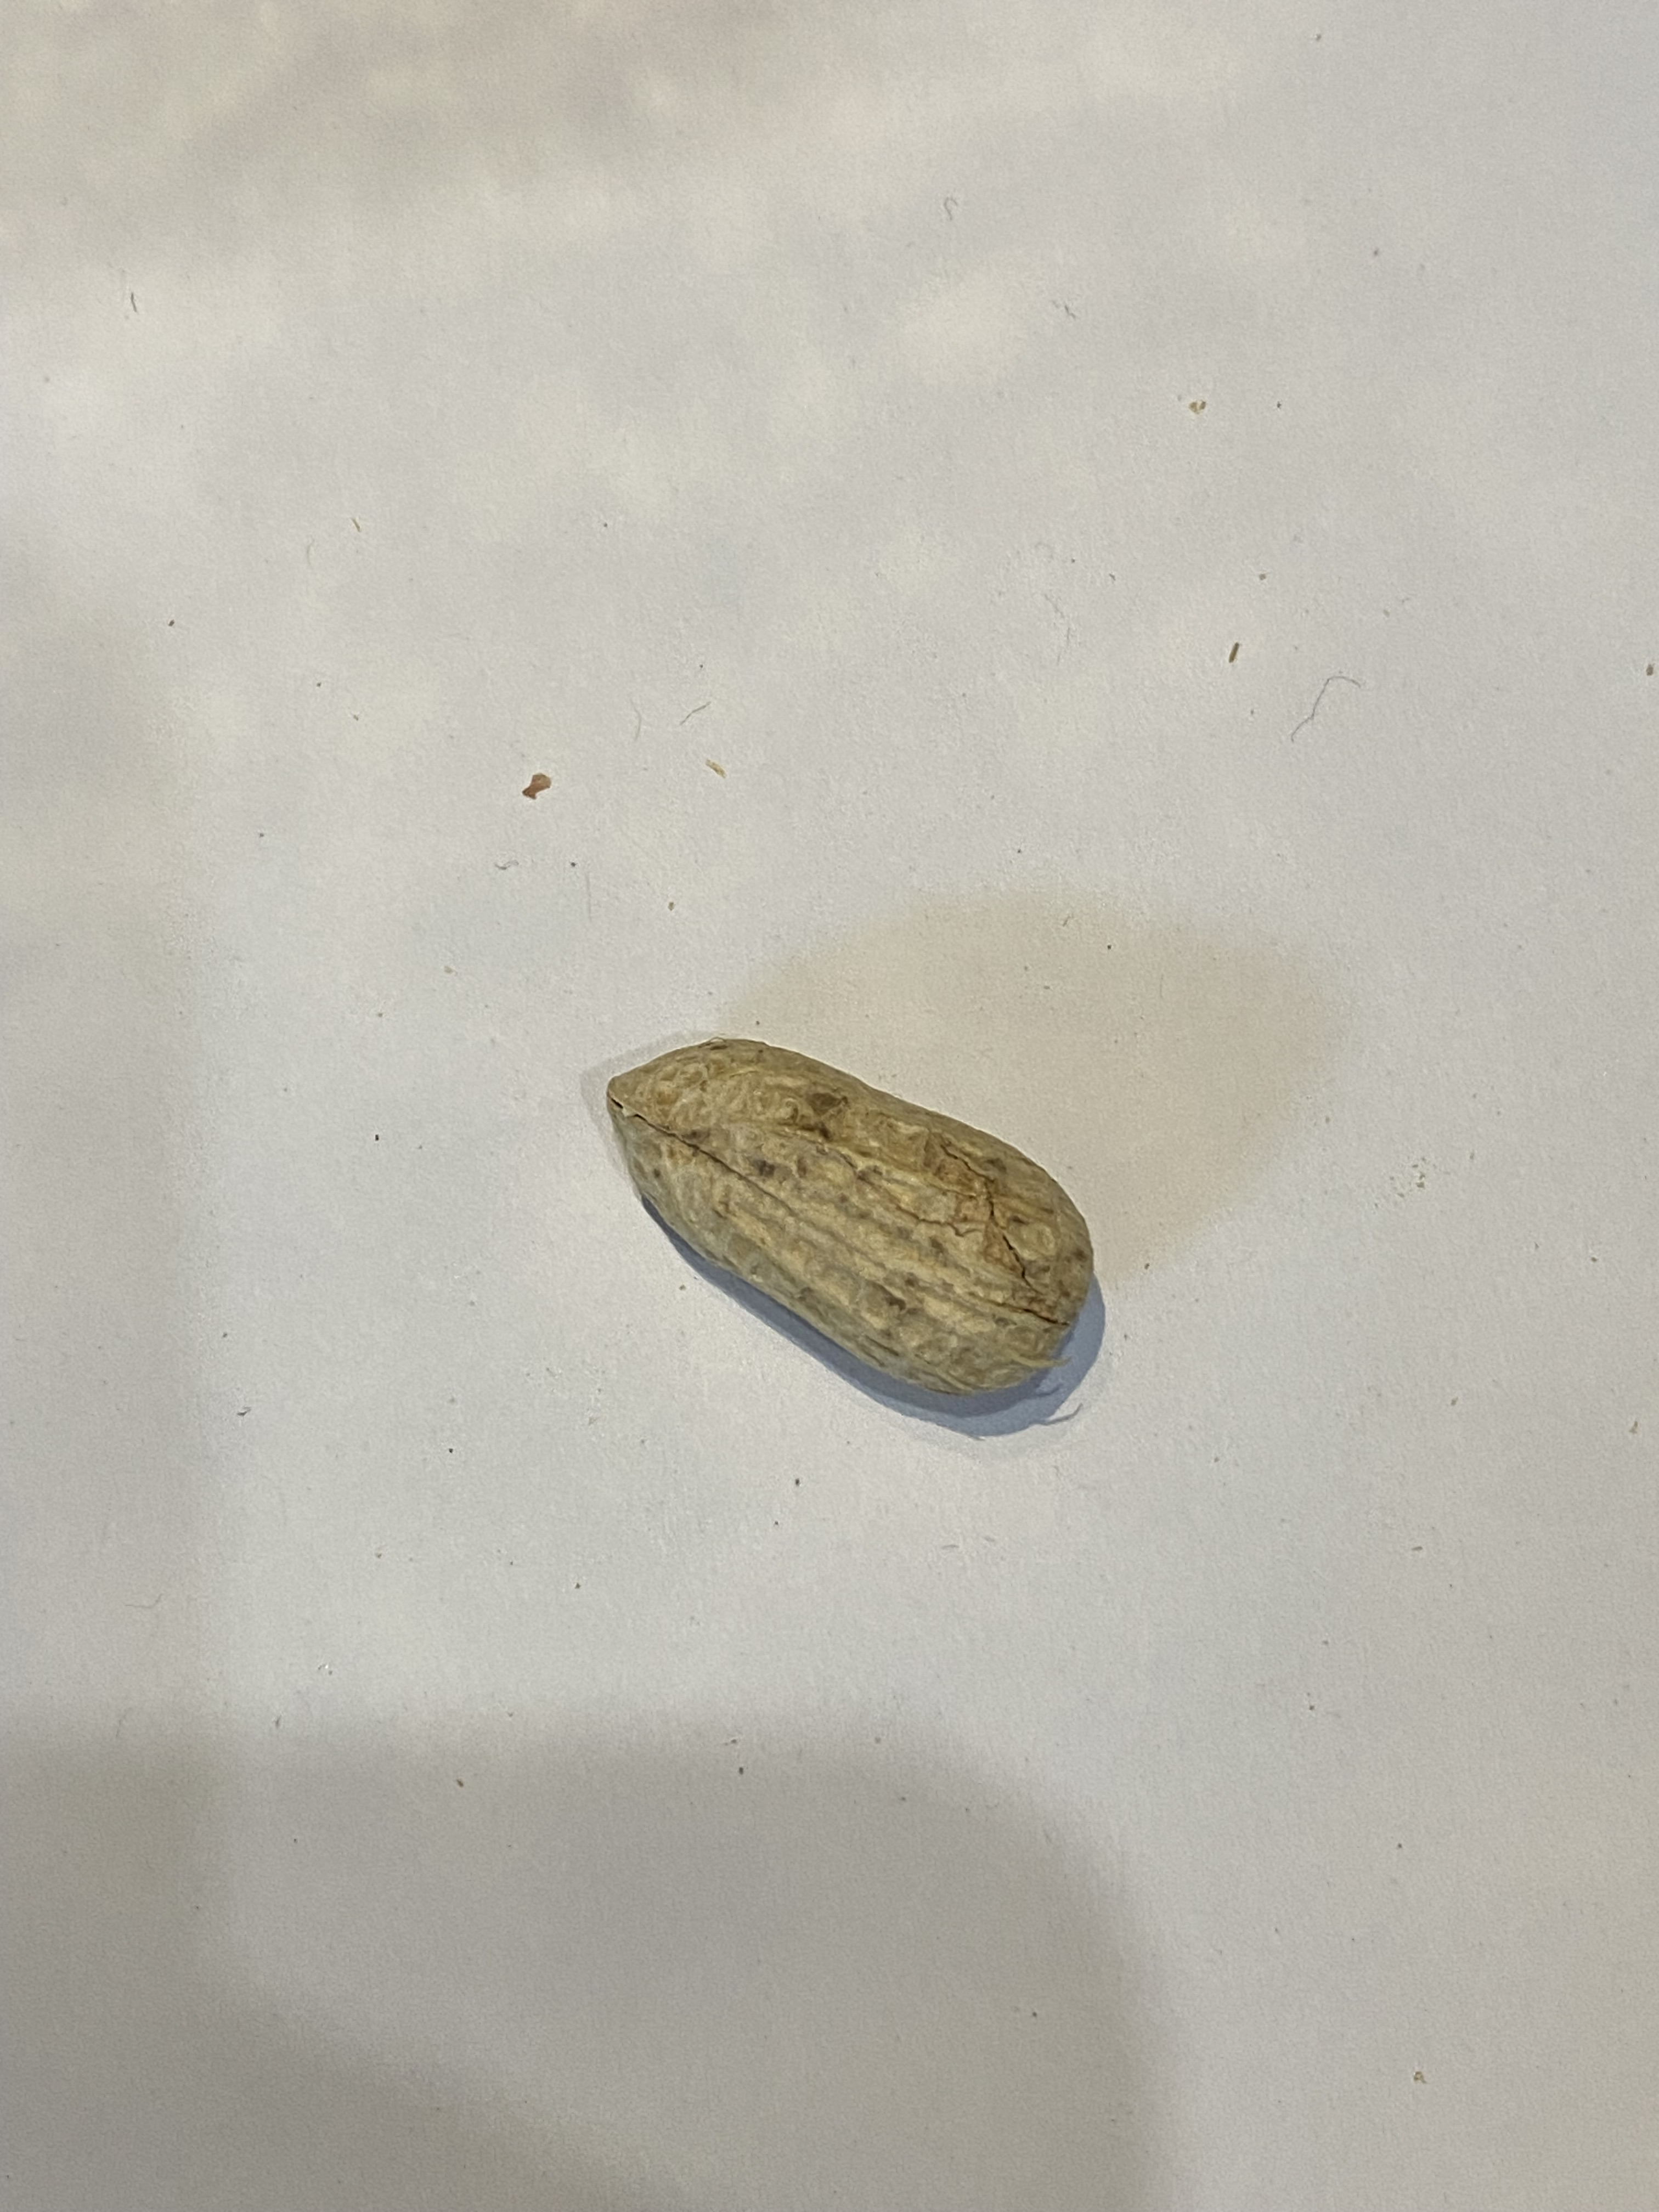kacang2: (580, 1008, 1112, 1402)
